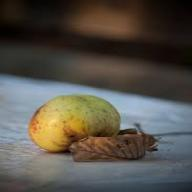apple: (29, 96, 124, 156)
